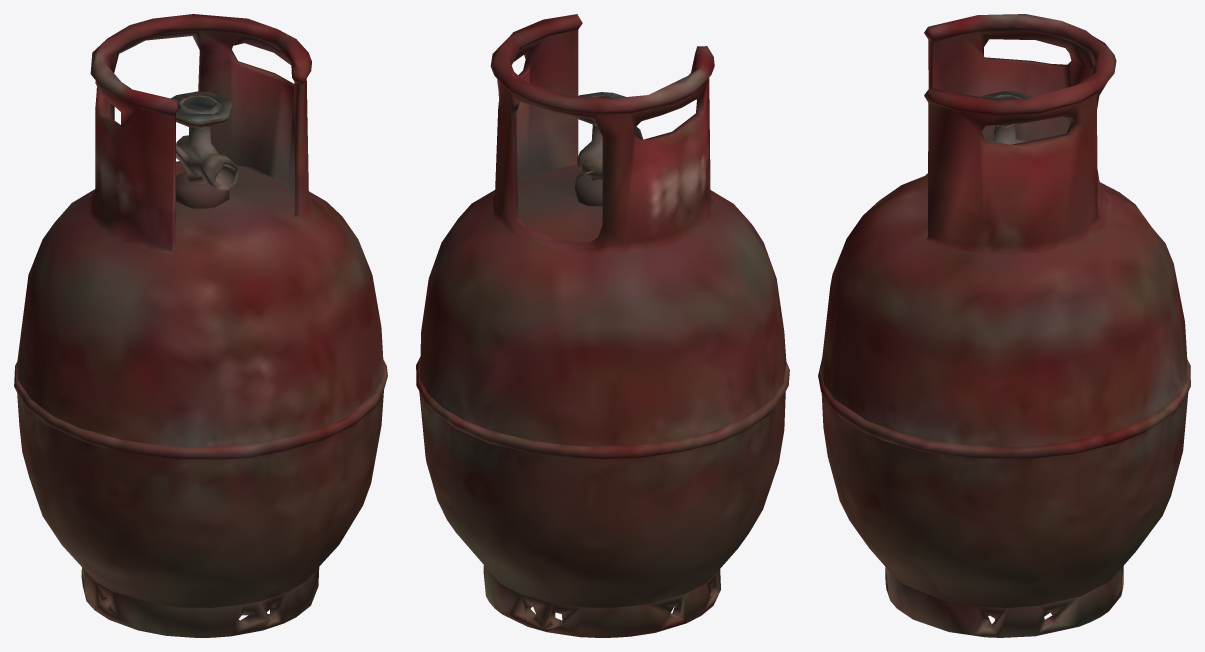
File: small_lpg_tank_lod2.glb
The picture shows the model from 3 angles, left to right: view 1: azimuth 30°, elevation 25°; view 2: azimuth 150°, elevation 25°; view 3: azimuth 270°, elevation 25°; orthographic projection.
Parts seen in each view (by area): view 1: small_lpg_tank; view 2: small_lpg_tank; view 3: small_lpg_tank.
Boxes of the visible parts, x1,y1,x2,y2 form: small_lpg_tank: [14, 14, 387, 637]; small_lpg_tank: [416, 14, 789, 637]; small_lpg_tank: [818, 14, 1190, 637].
Bounding box in the file's own units: 0.4087 × 0.642 × 0.4083.
Materials: 1 (1 with a texture image).
